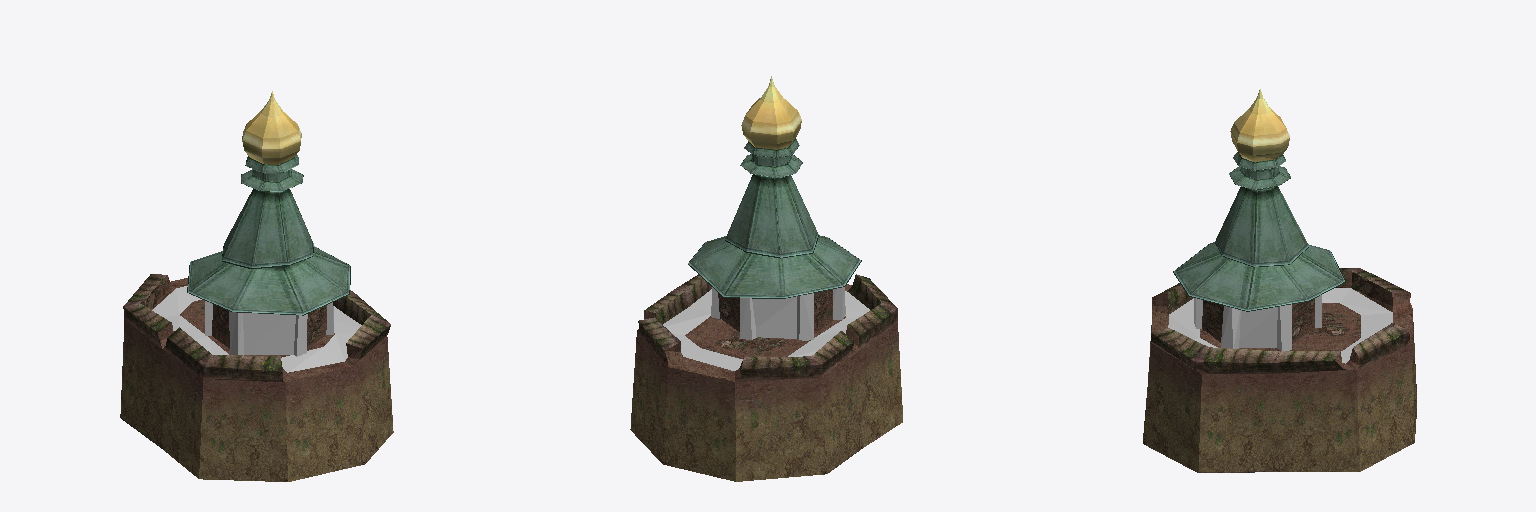
3 renders of one model, left to right at view 1: azimuth 30°, elevation 25°; view 2: azimuth 150°, elevation 25°; view 3: azimuth 270°, elevation 25°, orthographic.
Parts seen in each view (by area): view 1: Node 0; view 2: Node 0; view 3: Node 0.
Part boxes in pixels (x1,y1,x2,y2): Node 0: (120,91,393,481); Node 0: (630,76,902,481); Node 0: (1143,89,1416,472).
Size of the model in its own units: 12.28 by 20.61 by 15.
5 materials, 3 textured.